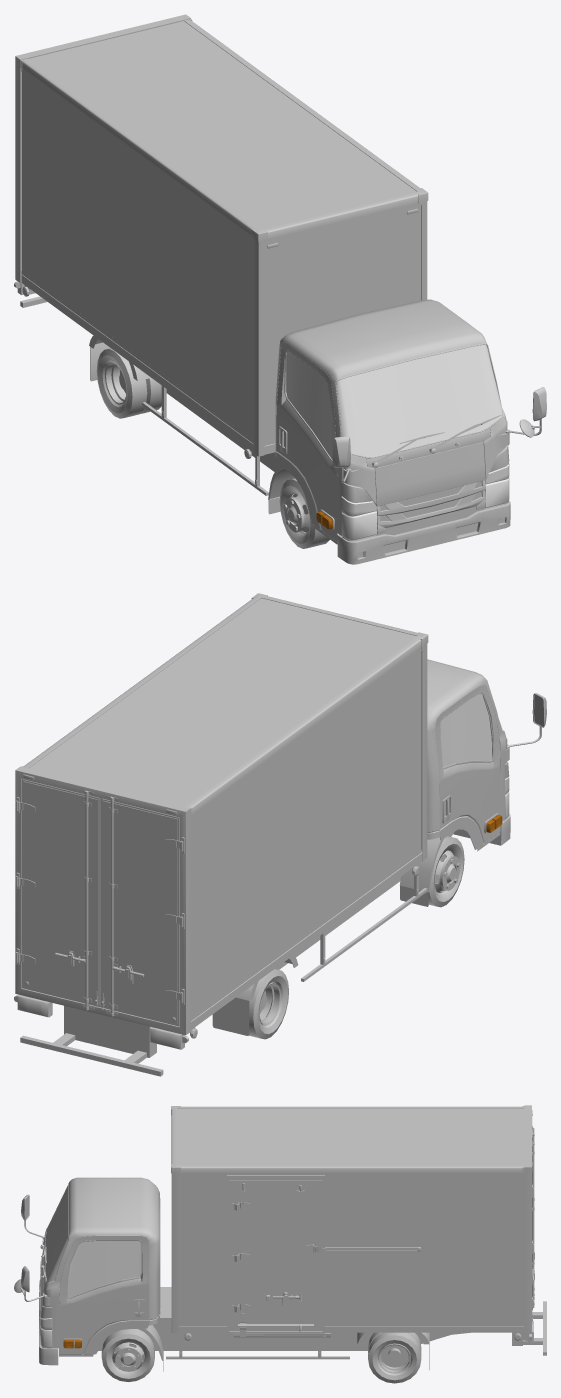
The model's file is Truck_2t.fbx.
3 views of the same model, one above another, from view 1: azimuth 30°, elevation 25°; view 2: azimuth 150°, elevation 25°; view 3: azimuth 270°, elevation 25° (orthographic). The views are drawn at different scales.
Parts seen in each view (by area): view 1: Body, Windows, WheelRR, WheelFR; view 2: Body, Windows, WheelRR, WheelFR; view 3: Body, Windows, WheelRL, WheelFL.
Boxes of the visible parts, x1=… form: Body: x1=14, y1=14, x2=546, y2=564; Windows: x1=286, y1=344, x2=509, y2=541; WheelRR: x1=96, y1=348, x2=161, y2=418; WheelFR: x1=279, y1=478, x2=329, y2=548; Body: x1=14, y1=593, x2=546, y2=1076; Windows: x1=17, y1=693, x2=509, y2=1049; WheelRR: x1=249, y1=969, x2=288, y2=1039; WheelFR: x1=428, y1=836, x2=464, y2=907; Body: x1=14, y1=1105, x2=546, y2=1371; Windows: x1=40, y1=1185, x2=533, y2=1348; WheelRL: x1=368, y1=1332, x2=421, y2=1383; WheelFL: x1=101, y1=1329, x2=154, y2=1381.
Size of what is drawn, in the model's own units: 314 by 416 by 919.
